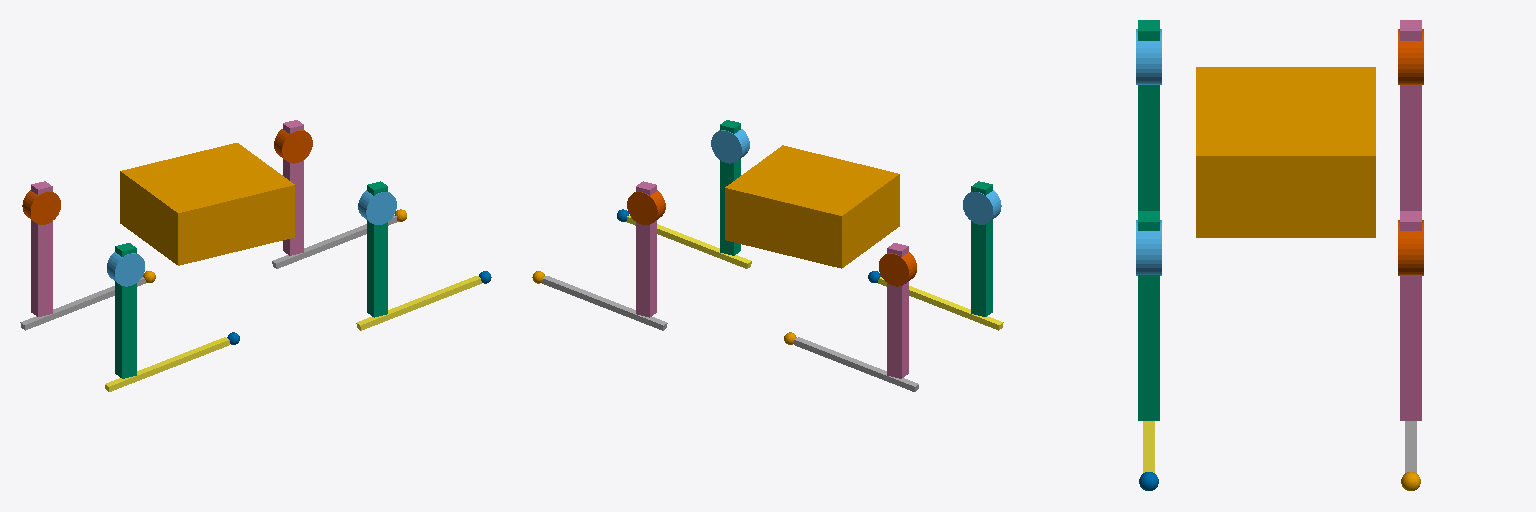
The robot description file, URDF, robot "arclabdog":
<?xml version="1.0" ?>
<robot name="arclabdog" xmlns:xacro="http://www.ros.org/wiki/xacro">
  <link name="trunk">
    <visual>
      <origin rpy="0 0 0" xyz="0 0 0"/>
      <geometry>
        <box size="0.35 0.3 0.15"/>
      </geometry>
    </visual>
    <collision>
      <origin rpy="0 0 0" xyz="0 0 0"/>
      <geometry>
        <box size="0.7 0.3 0.15"/>
      </geometry>
    </collision>
    <inertial>
      <origin xyz="0 0 0" rpy="0 0 0" />
      <mass value="2.0" />
      <inertia ixx="0.08" ixy="0" ixz="0" iyy="0.015" iyz="0" izz="0.022" />
    </inertial>
  </link>
  <joint name="FR_hip_joint" type="revolute">
    <origin rpy="0 0 0" xyz="0.376 -0.1065 0"/>
    <parent link="trunk"/>
    <child link="FR_hip"/>
    <axis xyz="1 0 0"/>
    <dynamics damping="0" friction="0"/>
    <limit effort="44.4" lower="-1.2217304764" upper="1.2217304764" velocity="40"/>
  </joint>
  <link name="FR_hip">
    <visual>
      <origin rpy="1.57079632679 0 0" xyz="0 -0.1215 0"/>
      <geometry>
        <cylinder length="0.0418" radius="0.046"/>
      </geometry>
    </visual>
    <collision>
      <origin rpy="1.57079632679 0 0" xyz="0 -0.1215 0"/>
      <geometry>
        <cylinder length="0.0418" radius="0.046"/>
      </geometry>
    </collision>
    <inertial>
      <origin rpy="0 0 0" xyz="-0.022 -0.015 0"/>
      <mass value="1.993"/>
      <inertia ixx="0.002" ixy="0" ixz="0" iyy="0.004" iyz="0" izz="0.005"/>
    </inertial>
  </link>
  <joint name="FR_thigh_joint" type="revolute">
    <origin rpy="0 0 0" xyz="0 -0.1215 0"/>
    <parent link="FR_hip"/>
    <child link="FR_thigh"/>
    <axis xyz="0 1 0"/>
    <dynamics damping="0" friction="0"/>
    <limit effort="44.4" velocity="40"/>
  </joint>
  <link name="FR_thigh">
    <visual>
      <origin rpy="0 1.57079632679 0" xyz="0 0 -0.125"/>
      <geometry>
        <box size="0.3645 0.0374 0.043"/>
      </geometry>
    </visual>
    <collision>
      <origin rpy="0 1.57079632679 0" xyz="0 0 -0.125"/>
      <geometry>
        <box size="0.3645 0.0374 0.043"/>
      </geometry>
    </collision>
    <inertial>
      <origin rpy="0 0 0" xyz="-0.005 0.003 -0.048"/>
      <mass value="0.639"/>
      <inertia ixx="0.005" ixy="0" ixz="0" iyy="0.005" iyz="0" izz="0"/>
    </inertial>
  </link>
  <joint name="FR_calf_joint" type="revolute">
    <origin rpy="0 0 0" xyz="0 0 -0.3245"/>
    <parent link="FR_thigh"/>
    <child link="FR_calf"/>
    <axis xyz="0 1 0"/>
    <dynamics damping="0" friction="0"/>
    <limit effort="44.4" lower="-2.77507351067" upper="-0.645771823238" velocity="40"/>
  </joint>
  <link name="FR_calf">
    <visual>
      <origin rpy="0 1.57079632679 0" xyz="0 0 -0.125"/>
      <geometry>
        <box size="0.3645 0.0208 0.016"/>
      </geometry>
    </visual>
    <collision>
      <origin rpy="0 1.57079632679 0" xyz="0 0 -0.125"/>
      <geometry>
        <box size="0.3645 0.0208 0.016"/>
      </geometry>
    </collision>
    <inertial>
      <origin rpy="0 0 0" xyz="0.002 0 -0.142"/>
      <mass value="0.207"/>
      <inertia ixx="0.006" ixy="0" ixz="0" iyy="0.006" iyz="0" izz="0"/>
    </inertial>
  </link>
  <joint name="FR_foot_fixed" type="fixed" dont_collapse="true">
    <origin rpy="0 0 0" xyz="0 0 -0.3245"/>
    <parent link="FR_calf"/>
    <child link="FR_foot"/>
  </joint>
  <link name="FR_foot">
    <visual>
      <origin rpy="0 0 0" xyz="0 0 0"/>
      <geometry>
        <sphere radius="0.0165"/>
      </geometry>
      <material name="green"/>
    </visual>
    <collision>
      <origin rpy="0 0 0" xyz="0 0 0"/>
      <geometry>
        <sphere radius="0.0165"/>
      </geometry>
    </collision>
    <inertial>
      <mass value="0.06"/>
      <inertia ixx="0" ixy="0" ixz="0" iyy="0" iyz="0" izz="0"/>
    </inertial>
  </link>
  <joint name="FL_hip_joint" type="revolute">
    <origin rpy="0 0 0" xyz="0.376 0.1065 0"/>
    <parent link="trunk"/>
    <child link="FL_hip"/>
    <axis xyz="1 0 0"/>
    <dynamics damping="0" friction="0"/>
    <limit effort="44.4" lower="-1.2217304764" upper="1.2217304764" velocity="40"/>
  </joint>
  <link name="FL_hip">
    <visual>
      <origin rpy="1.57079632679 0 0" xyz="0 0.1015 0"/>
      <geometry>
        <cylinder length="0.0418" radius="0.046"/>
      </geometry>
    </visual>
    <collision>
      <origin rpy="1.57079632679 0 0" xyz="0 0.1015 0"/>
      <geometry>
        <cylinder length="0.0418" radius="0.046"/>
      </geometry>
    </collision>
    <inertial>
      <origin rpy="0 0 0" xyz="-0.022 0.015 0"/>
      <mass value="1.993"/>
      <inertia ixx="0.002" ixy="0" ixz="0" iyy="0.004" iyz="0" izz="0.005"/>
    </inertial>
  </link>
  <joint name="FL_thigh_joint" type="revolute">
    <origin rpy="0 0 0" xyz="0 0.1015 0"/>
    <parent link="FL_hip"/>
    <child link="FL_thigh"/>
    <axis xyz="0 1 0"/>
    <dynamics damping="0" friction="0"/>
    <limit effort="44.4" velocity="40"/>
  </joint>
  <link name="FL_thigh">
    <visual>
      <origin rpy="0 1.57079632679 0" xyz="0 0 -0.125"/>
      <geometry>
        <box size="0.3645 0.0374 0.043"/>
      </geometry>
    </visual>
    <collision>
      <origin rpy="0 1.57079632679 0" xyz="0 0 -0.125"/>
      <geometry>
        <box size="0.3645 0.0374 0.043"/>
      </geometry>
    </collision>
    <inertial>
      <origin rpy="0 0 0" xyz="-0.005 -0.003 -0.048"/>
      <mass value="0.639"/>
      <inertia ixx="0.005" ixy="0" ixz="0" iyy="0.005" iyz="0" izz="0"/>
    </inertial>
  </link>
  <joint name="FL_calf_joint" type="revolute">
    <origin rpy="0 0 0" xyz="0 0 -0.3245"/>
    <parent link="FL_thigh"/>
    <child link="FL_calf"/>
    <axis xyz="0 1 0"/>
    <dynamics damping="0" friction="0"/>
    <limit effort="44.4" lower="-2.77507351067" upper="-0.645771823238" velocity="40"/>
  </joint>
  <link name="FL_calf">
    <visual>
      <origin rpy="0 1.57079632679 0" xyz="0 0 -0.125"/>
      <geometry>
        <box size="0.3645 0.0208 0.016"/>
      </geometry>
    </visual>
    <collision>
      <origin rpy="0 1.57079632679 0" xyz="0 0 -0.125"/>
      <geometry>
        <box size="0.3645 0.0208 0.016"/>
      </geometry>
    </collision>
    <inertial>
      <origin rpy="0 0 0" xyz="0.002 0 -0.142"/>
      <mass value="0.207"/>
      <inertia ixx="0.006" ixy="0" ixz="0" iyy="0.006" iyz="0" izz="0"/>
    </inertial>
  </link>
  <joint name="FL_foot_fixed" type="fixed" dont_collapse="true">
    <origin rpy="0 0 0" xyz="0 0 -0.3245"/>
    <parent link="FL_calf"/>
    <child link="FL_foot"/>
  </joint>
  <link name="FL_foot">
    <visual>
      <origin rpy="0 0 0" xyz="0 0 0"/>
      <geometry>
        <sphere radius="0.0165"/>
      </geometry>
      <material name="green"/>
    </visual>
    <collision>
      <origin rpy="0 0 0" xyz="0 0 0"/>
      <geometry>
        <sphere radius="0.0165"/>
      </geometry>
    </collision>
    <inertial>
      <mass value="0.06"/>
      <inertia ixx="0" ixy="0" ixz="0" iyy="0" iyz="0" izz="0"/>
    </inertial>
  </link>
  <joint name="RR_hip_joint" type="revolute">
    <origin rpy="0 0 0" xyz="-0.376 -0.1065 0"/>
    <parent link="trunk"/>
    <child link="RR_hip"/>
    <axis xyz="1 0 0"/>
    <dynamics damping="0" friction="0"/>
    <limit effort="44.4" lower="-1.2217304764" upper="1.2217304764" velocity="40"/>
  </joint>
  <link name="RR_hip">
    <visual>
      <origin rpy="1.57079632679 0 0" xyz="0 -0.1215 0"/>
      <geometry>
        <cylinder length="0.0418" radius="0.046"/>
      </geometry>
    </visual>
    <collision>
      <origin rpy="1.57079632679 0 0" xyz="0 -0.1215 0"/>
      <geometry>
        <cylinder length="0.0418" radius="0.046"/>
      </geometry>
    </collision>
    <inertial>
      <origin rpy="0 0 0" xyz="0.022 -0.015 0"/>
      <mass value="1.993"/>
      <inertia ixx="0.002" ixy="0" ixz="0" iyy="0.004" iyz="0" izz="0.005"/>
    </inertial>
  </link>
  <joint name="RR_thigh_joint" type="revolute">
    <origin rpy="0 0 0" xyz="0 -0.1215 0"/>
    <parent link="RR_hip"/>
    <child link="RR_thigh"/>
    <axis xyz="0 1 0"/>
    <dynamics damping="0" friction="0"/>
    <limit effort="44.4" velocity="40"/>
  </joint>
  <link name="RR_thigh">
    <visual>
      <origin rpy="0 1.57079632679 0" xyz="0 0 -0.125"/>
      <geometry>
        <box size="0.3645 0.0374 0.043"/>
      </geometry>
    </visual>
    <collision>
      <origin rpy="0 1.57079632679 0" xyz="0 0 -0.125"/>
      <geometry>
        <box size="0.3645 0.0374 0.043"/>
      </geometry>
    </collision>
    <inertial>
      <origin rpy="0 0 0" xyz="-0.005 0.003 -0.048"/>
      <mass value="0.639"/>
      <inertia ixx="0.005" ixy="0" ixz="0" iyy="0.005" iyz="0" izz="0"/>
    </inertial>
  </link>
  <joint name="RR_calf_joint" type="revolute">
    <origin rpy="0 0 0" xyz="0 0 -0.3245"/>
    <parent link="RR_thigh"/>
    <child link="RR_calf"/>
    <axis xyz="0 1 0"/>
    <dynamics damping="0" friction="0"/>
    <limit effort="44.4" lower="-2.77507351067" upper="-0.645771823238" velocity="40"/>
  </joint>
  <link name="RR_calf">
    <visual>
      <origin rpy="0 1.57079632679 0" xyz="0 0 -0.125"/>
      <geometry>
        <box size="0.3645 0.0208 0.016"/>
      </geometry>
    </visual>
    <collision>
      <origin rpy="0 1.57079632679 0" xyz="0 0 -0.125"/>
      <geometry>
        <box size="0.3645 0.0208 0.016"/>
      </geometry>
    </collision>
    <inertial>
      <origin rpy="0 0 0" xyz="0.002 0 -0.142"/>
      <mass value="0.207"/>
      <inertia ixx="0.006" ixy="0" ixz="0" iyy="0.006" iyz="0" izz="0"/>
    </inertial>
  </link>
  <joint name="RR_foot_fixed" type="fixed" dont_collapse="true">
    <origin rpy="0 0 0" xyz="0 0 -0.3245"/>
    <parent link="RR_calf"/>
    <child link="RR_foot"/>
  </joint>
  <link name="RR_foot">
    <visual>
      <origin rpy="0 0 0" xyz="0 0 0"/>
      <geometry>
        <sphere radius="0.0165"/>
      </geometry>
      <material name="green"/>
    </visual>
    <collision>
      <origin rpy="0 0 0" xyz="0 0 0"/>
      <geometry>
        <sphere radius="0.0165"/>
      </geometry>
    </collision>
    <inertial>
      <mass value="0.06"/>
      <inertia ixx="0" ixy="0" ixz="0" iyy="0" iyz="0" izz="0"/>
    </inertial>
  </link>
  <joint name="RL_hip_joint" type="revolute">
    <origin rpy="0 0 0" xyz="-0.376 0.1065 0"/>
    <parent link="trunk"/>
    <child link="RL_hip"/>
    <axis xyz="1 0 0"/>
    <dynamics damping="0" friction="0"/>
    <limit effort="44.4" lower="-1.2217304764" upper="1.2217304764" velocity="40"/>
  </joint>
  <link name="RL_hip">
    <visual>
      <origin rpy="1.57079632679 0 0" xyz="0 0.1015 0"/>
      <geometry>
        <cylinder length="0.0418" radius="0.046"/>
      </geometry>
    </visual>
    <collision>
      <origin rpy="1.57079632679 0 0" xyz="0 0.1015 0"/>
      <geometry>
        <cylinder length="0.0418" radius="0.046"/>
      </geometry>
    </collision>
    <inertial>
      <origin rpy="0 0 0" xyz="0.022 0.015 0"/>
      <mass value="1.993"/>
      <inertia ixx="0.002" ixy="0" ixz="0" iyy="0.004" iyz="0" izz="0.005"/>
    </inertial>
  </link>
  <joint name="RL_thigh_joint" type="revolute">
    <origin rpy="0 0 0" xyz="0 0.1015 0"/>
    <parent link="RL_hip"/>
    <child link="RL_thigh"/>
    <axis xyz="0 1 0"/>
    <dynamics damping="0" friction="0"/>
    <limit effort="44.4" velocity="40"/>
  </joint>
  <link name="RL_thigh">
    <visual>
      <origin rpy="0 1.57079632679 0" xyz="0 0 -0.125"/>
      <geometry>
        <box size="0.3645 0.0374 0.043"/>
      </geometry>
    </visual>
    <collision>
      <origin rpy="0 1.57079632679 0" xyz="0 0 -0.125"/>
      <geometry>
        <box size="0.3645 0.0374 0.043"/>
      </geometry>
    </collision>
    <inertial>
      <origin rpy="0 0 0" xyz="-0.005 -0.003 -0.048"/>
      <mass value="0.639"/>
      <inertia ixx="0.005" ixy="0" ixz="0" iyy="0.005" iyz="0" izz="0"/>
    </inertial>
  </link>
  <joint name="RL_calf_joint" type="revolute">
    <origin rpy="0 0 0" xyz="0 0 -0.3245"/>
    <parent link="RL_thigh"/>
    <child link="RL_calf"/>
    <axis xyz="0 1 0"/>
    <dynamics damping="0" friction="0"/>
    <limit effort="44.4" lower="-2.77507351067" upper="-0.645771823238" velocity="40"/>
  </joint>
  <link name="RL_calf">
    <visual>
      <origin rpy="0 1.57079632679 0" xyz="0 0 -0.125"/>
      <geometry>
        <box size="0.3645 0.0208 0.016"/>
      </geometry>
    </visual>
    <collision>
      <origin rpy="0 1.57079632679 0" xyz="0 0 -0.125"/>
      <geometry>
        <box size="0.3645 0.0208 0.016"/>
      </geometry>
    </collision>
    <inertial>
      <origin rpy="0 0 0" xyz="0.002 0 -0.142"/>
      <mass value="0.207"/>
      <inertia ixx="0.006" ixy="0" ixz="0" iyy="0.006" iyz="0" izz="0"/>
    </inertial>
  </link>
  <joint name="RL_foot_fixed" type="fixed" dont_collapse="true">
    <origin rpy="0 0 0" xyz="0 0 -0.3245"/>
    <parent link="RL_calf"/>
    <child link="RL_foot"/>
  </joint>
  <link name="RL_foot">
    <visual>
      <origin rpy="0 0 0" xyz="0 0 0"/>
      <geometry>
        <sphere radius="0.0165"/>
      </geometry>
      <material name="green"/>
    </visual>
    <collision>
      <origin rpy="0 0 0" xyz="0 0 0"/>
      <geometry>
        <sphere radius="0.0165"/>
      </geometry>
    </collision>
    <inertial>
      <mass value="0.06"/>
      <inertia ixx="0" ixy="0" ixz="0" iyy="0" iyz="0" izz="0"/>
    </inertial>
  </link>
</robot>

--- What the picture shows (computed from the rendered views, not written in the file) ---
The picture shows the robot from 3 angles, left to right: view 1: azimuth 30°, elevation 25°; view 2: azimuth 150°, elevation 25°; view 3: azimuth 270°, elevation 25°; orthographic projection.
Robot: arclabdog — 17 links, 16 joints (12 revolute, 4 fixed); root link trunk; default pose: all joints at 0 but 4 set to mid-range because 0 is outside their limits (FR_calf_joint = -1.71, FL_calf_joint = -1.71, RR_calf_joint = -1.71, RL_calf_joint = -1.71).
Links seen in each view (by area): view 1: trunk, RL_thigh, RR_thigh, FR_thigh, FL_thigh, FR_calf, RR_calf, FR_hip, FL_hip, RR_hip, RL_hip, FL_calf (+1 smaller); view 2: trunk, RR_thigh, RL_thigh, FL_thigh, FL_calf, RL_calf, FR_thigh, FR_hip, FL_hip, RR_hip, RL_hip, FR_calf (+1 smaller); view 3: trunk, FR_thigh, FL_thigh, RR_thigh, RL_thigh, FR_hip, FL_hip, RR_hip, RL_hip, FR_calf, FL_calf.
Link boxes in pixels (<box>): trunk: <box>120,143,294,265</box>; RL_thigh: <box>31,181,52,316</box>; RR_thigh: <box>115,243,136,378</box>; FR_thigh: <box>367,181,387,317</box>; FL_thigh: <box>283,120,303,255</box>; FR_calf: <box>356,276,481,330</box>; RR_calf: <box>105,337,229,391</box>; FR_hip: <box>358,190,396,224</box>; FL_hip: <box>274,129,312,163</box>; RR_hip: <box>107,252,144,286</box>; RL_hip: <box>22,190,60,224</box>; FL_calf: <box>272,215,397,268</box>; trunk: <box>725,145,899,268</box>; RR_thigh: <box>971,181,992,316</box>; RL_thigh: <box>887,243,908,378</box>; FL_thigh: <box>636,181,656,317</box>; FL_calf: <box>542,276,667,330</box>; RL_calf: <box>794,337,918,391</box>; FR_thigh: <box>720,120,740,255</box>; FR_hip: <box>711,129,749,163</box>; FL_hip: <box>627,190,665,224</box>; RR_hip: <box>963,190,1001,224</box>; RL_hip: <box>879,252,916,286</box>; FR_calf: <box>626,215,751,268</box>; trunk: <box>1196,67,1375,237</box>; FR_thigh: <box>1138,211,1159,420</box>; FL_thigh: <box>1400,211,1421,420</box>; RR_thigh: <box>1138,20,1159,210</box>; RL_thigh: <box>1400,20,1421,210</box>; FR_hip: <box>1136,220,1161,275</box>; FL_hip: <box>1398,220,1423,275</box>; RR_hip: <box>1136,29,1161,84</box>; RL_hip: <box>1398,29,1423,84</box>; FR_calf: <box>1143,421,1154,472</box>; FL_calf: <box>1405,421,1416,472</box>.
Bounding box of the posed robot: 1.15 × 0.4778 × 0.4154 m (x, y, z).
Geometry: primitives only (box / cylinder / sphere), no mesh files.